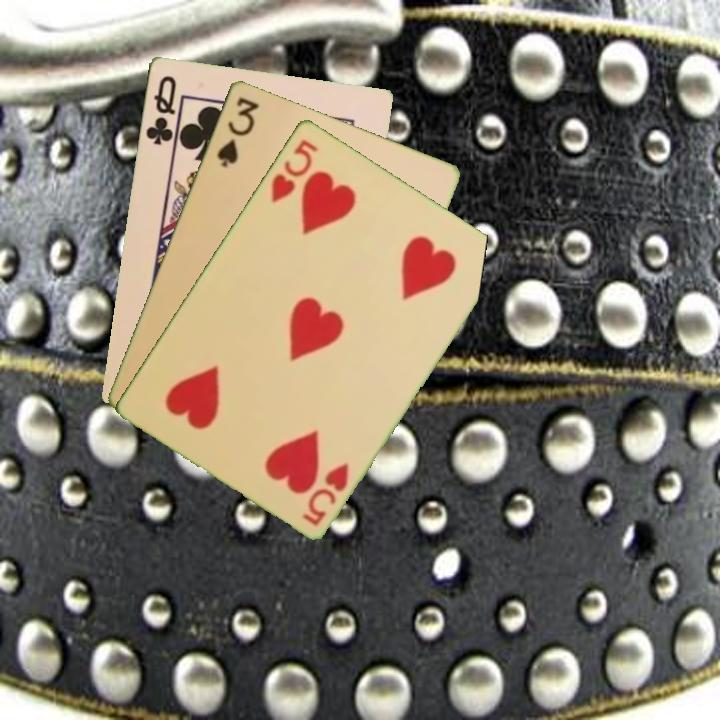3s: (213, 93, 262, 170)
5h: (267, 135, 321, 205), (299, 458, 352, 528)
Qc: (142, 71, 179, 147)
